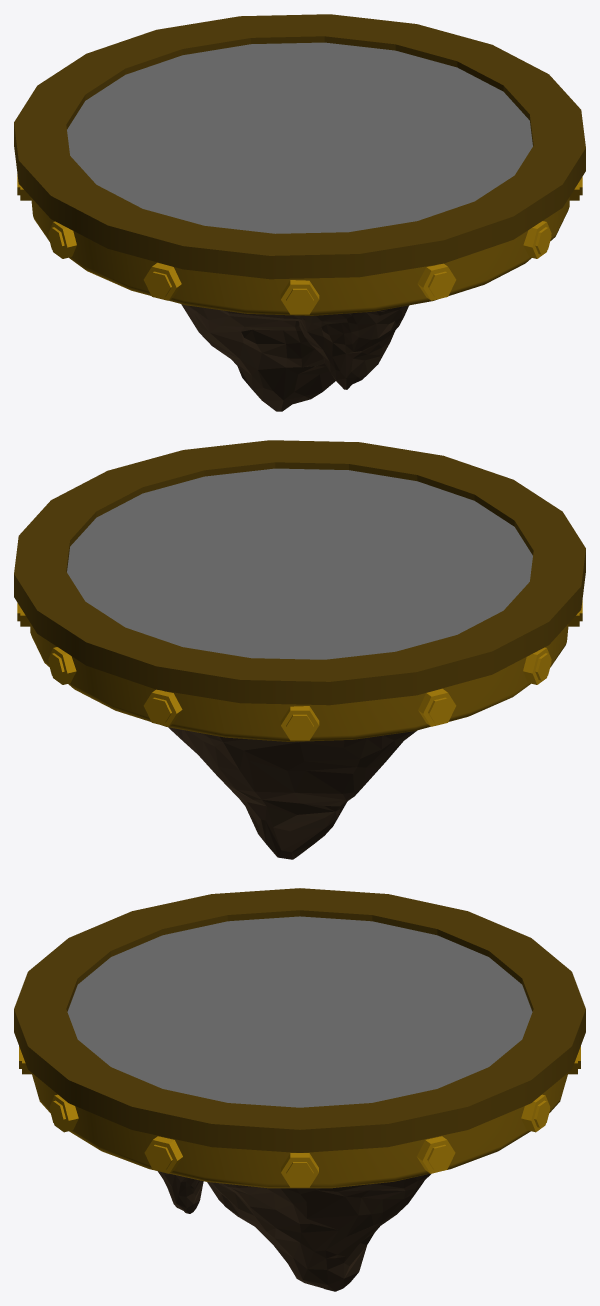
File: Platform.fbx
3 views of the same model, one above another, from view 1: azimuth 30°, elevation 25°; view 2: azimuth 150°, elevation 25°; view 3: azimuth 270°, elevation 25° (orthographic).
Visible parts, largest first — view 1: Platform_top, platform_rimTop, Platform_RimBottom, platfrom_base, bolts; view 2: Platform_top, platform_rimTop, platfrom_base, Platform_RimBottom, bolts; view 3: Platform_top, platform_rimTop, Platform_RimBottom, platfrom_base, bolts.
Boxes of the visible parts, <box> form: Platform_top: <box>67,42,532,233</box>; platform_rimTop: <box>14,14,585,279</box>; Platform_RimBottom: <box>31,197,569,315</box>; platfrom_base: <box>181,304,409,411</box>; bolts: <box>17,174,582,314</box>; Platform_top: <box>67,468,532,659</box>; platform_rimTop: <box>14,440,585,705</box>; platfrom_base: <box>168,727,417,859</box>; Platform_RimBottom: <box>30,623,568,741</box>; bolts: <box>17,600,582,740</box>; Platform_top: <box>67,916,532,1107</box>; platform_rimTop: <box>14,888,585,1152</box>; Platform_RimBottom: <box>32,1073,567,1188</box>; platfrom_base: <box>157,1171,430,1291</box>; bolts: <box>19,1046,580,1187</box>.
Size of the model in its own units: 1.74 by 0.9486 by 1.74.
